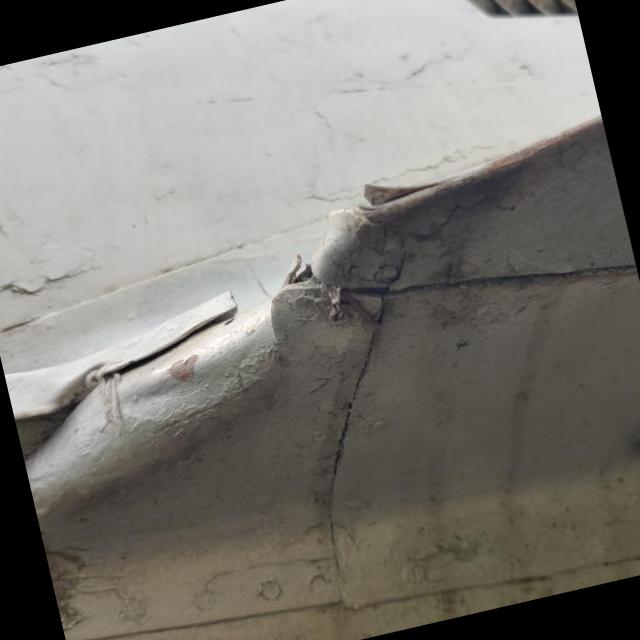Crack: (277, 254, 343, 320), (364, 183, 439, 205)
